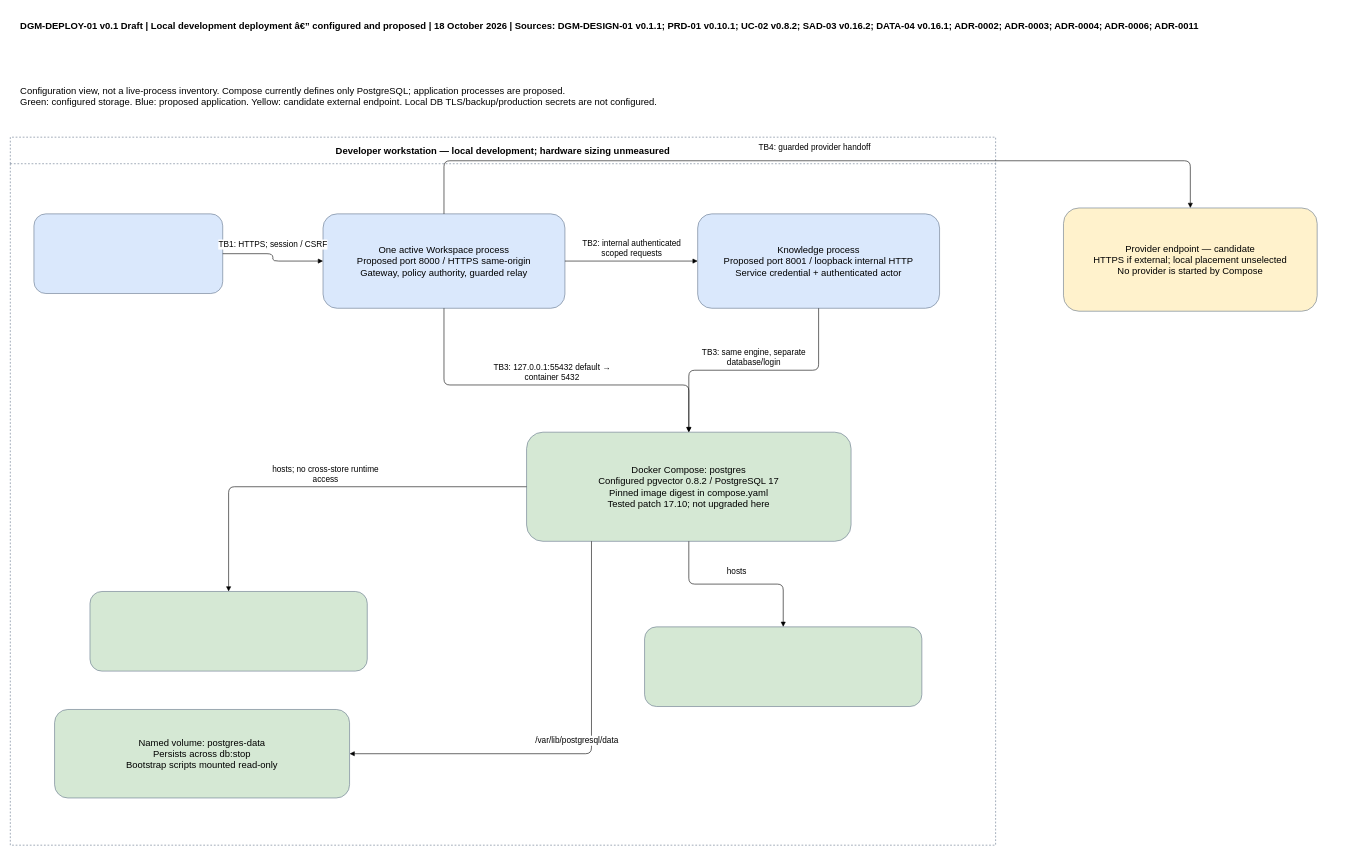
Image size: 1345x855. Some labels were removed from this diagram. The centre of each missing label's shape, as x and y in pixels:
Browser / web UI Proposed application No trusted DB or policy access: the point at 128,253
knowledge_db / knowledge_app Owned schema + pgvector only here: the point at 783,666
workspace_db / workspace_app Owned schema; separate non-login owner: the point at 228,631
